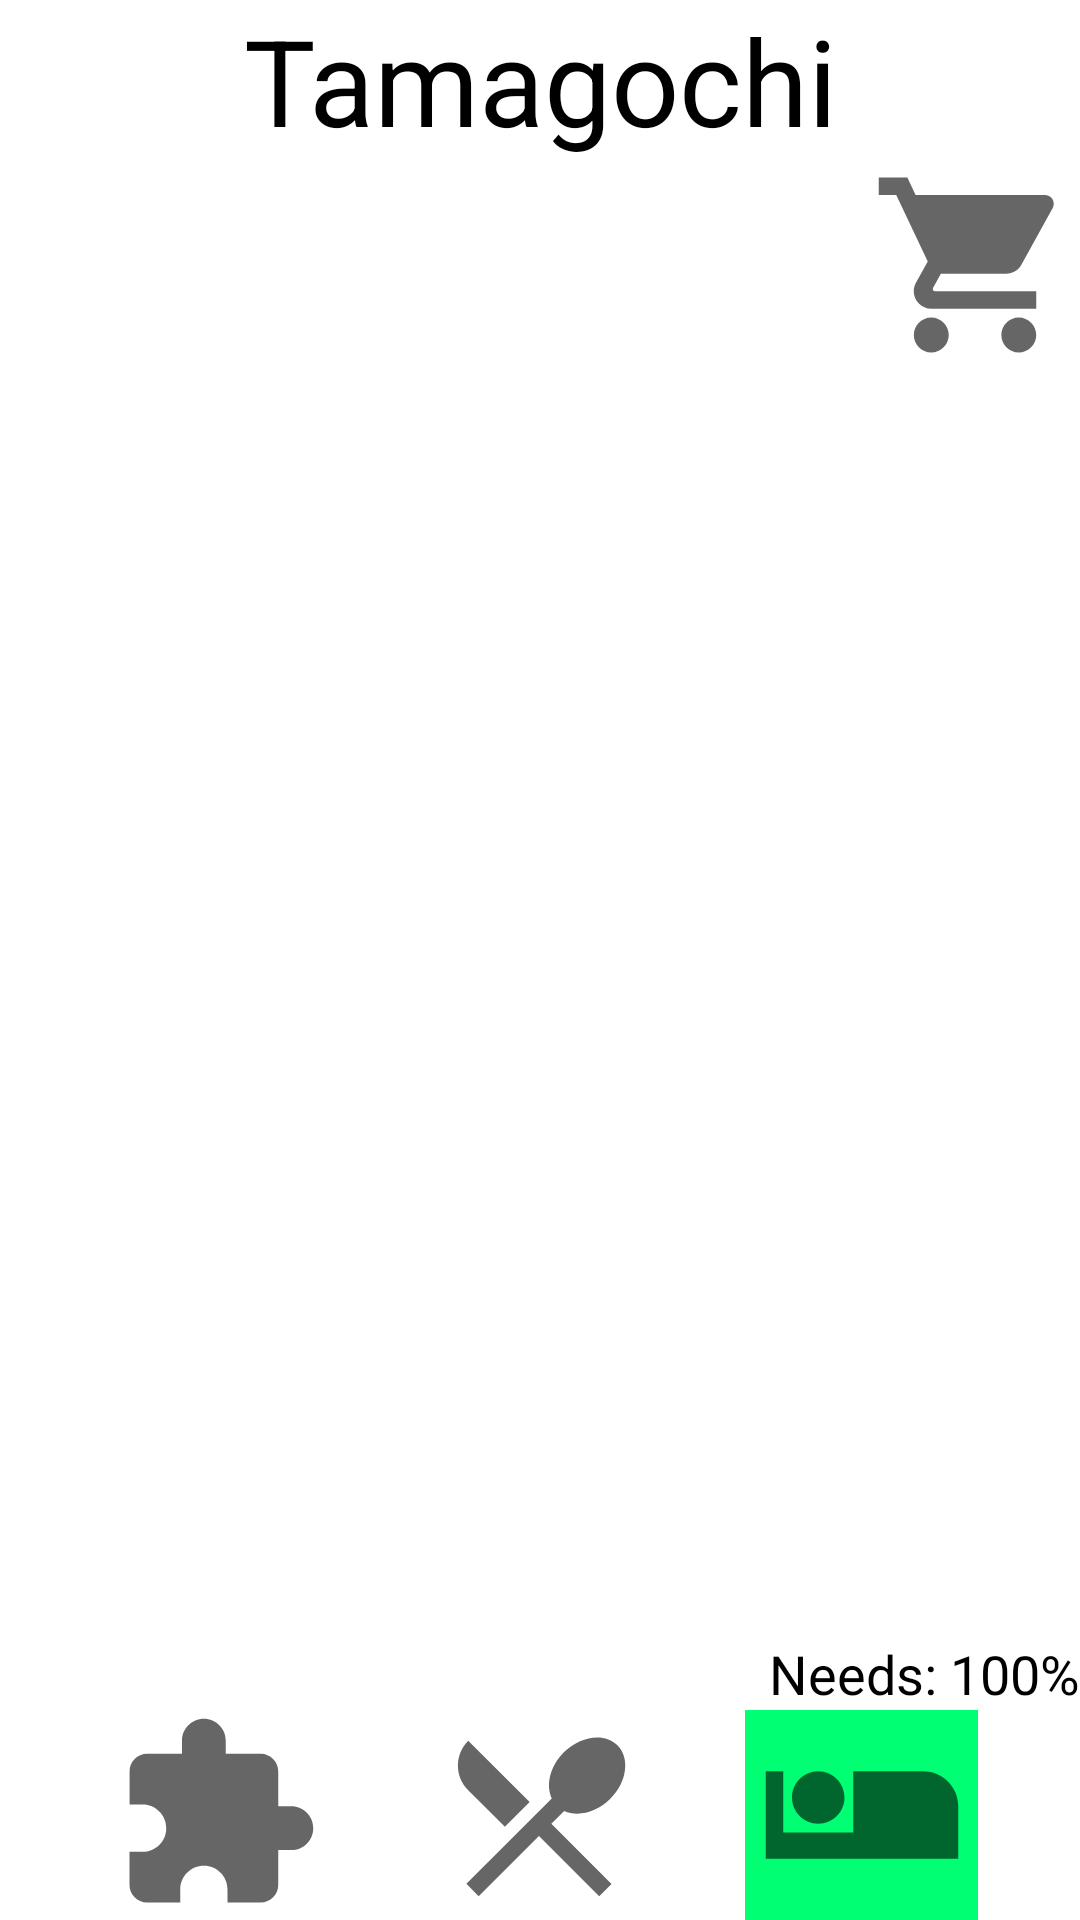

Where icons sit on this 1080 x 1920 app screen, as (x1, y1, x2, y2):
dining room: (458, 1737, 626, 1896)
play room: (129, 1718, 314, 1903)
shop: (878, 177, 1054, 353)
